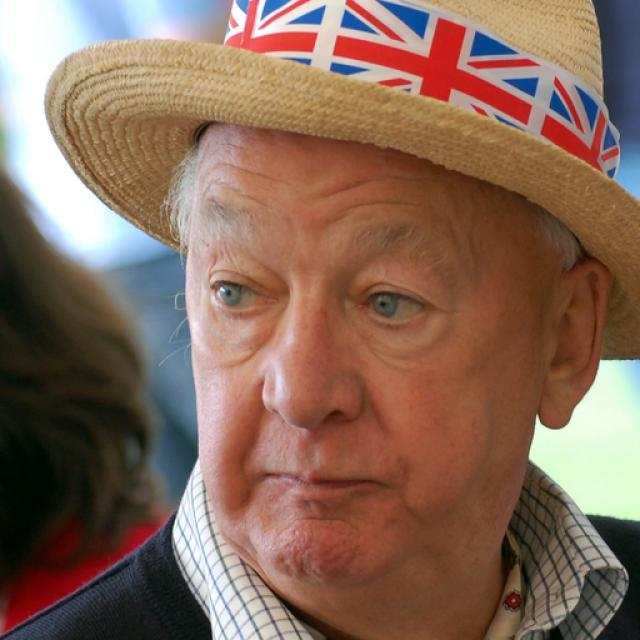surprise: (184, 120, 530, 588)
